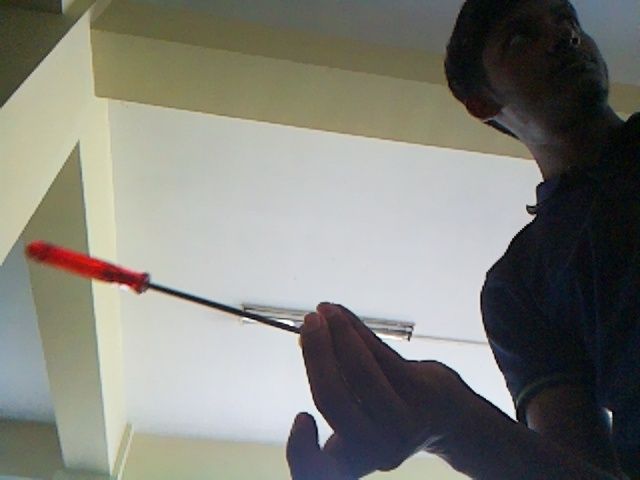redskrew: (21, 238, 314, 339)
